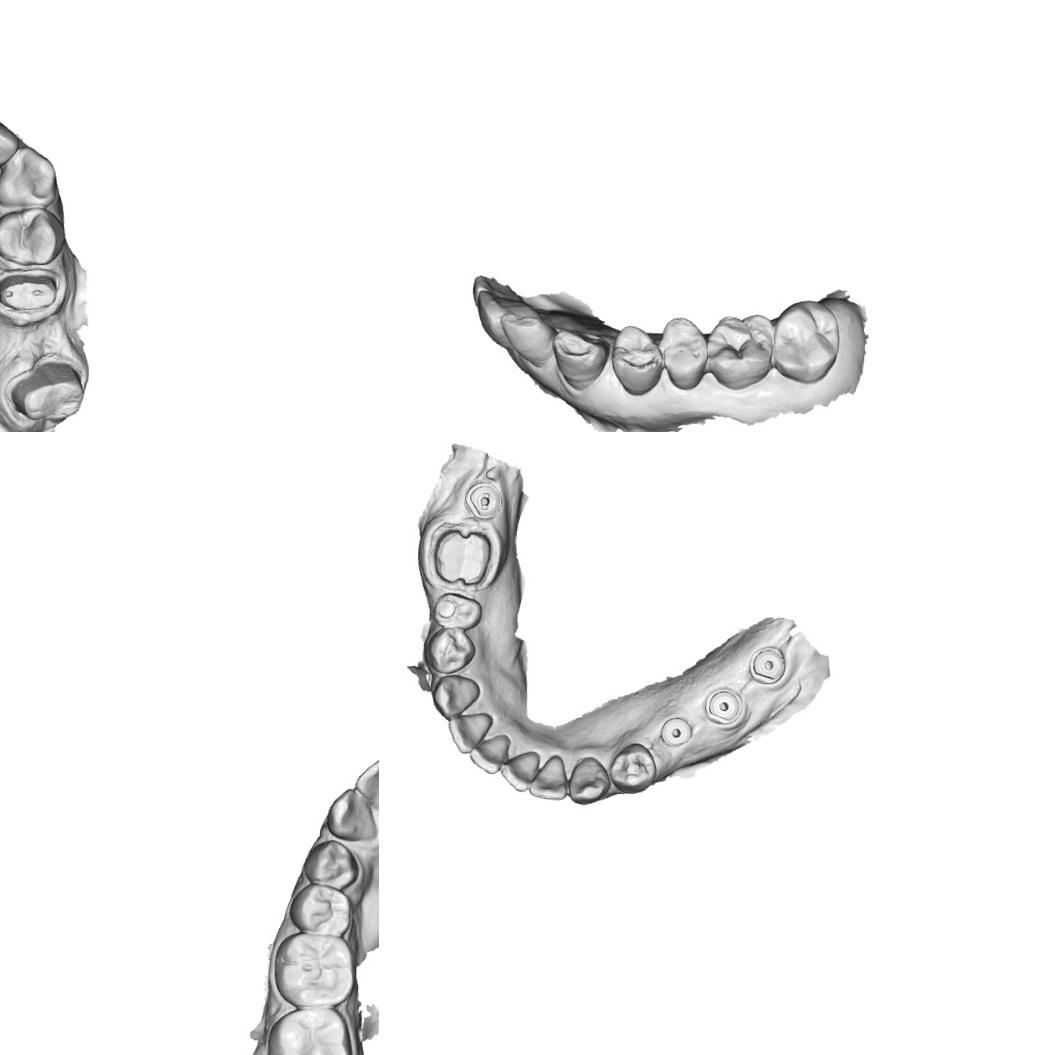canine: (0, 142, 62, 210), (548, 326, 610, 392), (321, 783, 379, 843), (429, 672, 482, 721), (566, 754, 612, 806)
crown: (5, 353, 88, 425), (427, 521, 496, 589), (0, 267, 65, 317)
implant: (702, 684, 744, 726), (746, 644, 786, 686), (657, 714, 692, 748)
implant_minus: (462, 476, 504, 522)
incisor: (471, 288, 531, 352), (494, 310, 556, 369), (444, 709, 494, 757), (526, 752, 570, 802), (466, 729, 512, 776), (498, 748, 540, 794), (350, 753, 379, 814), (0, 112, 25, 178)
molar: (269, 929, 360, 1010), (770, 296, 842, 386), (700, 308, 776, 392), (262, 1002, 361, 1055)
premolar: (0, 200, 70, 269), (607, 322, 665, 398), (284, 878, 355, 940), (658, 314, 710, 390), (299, 835, 362, 892), (607, 738, 659, 796), (421, 624, 477, 675), (431, 589, 483, 631)
